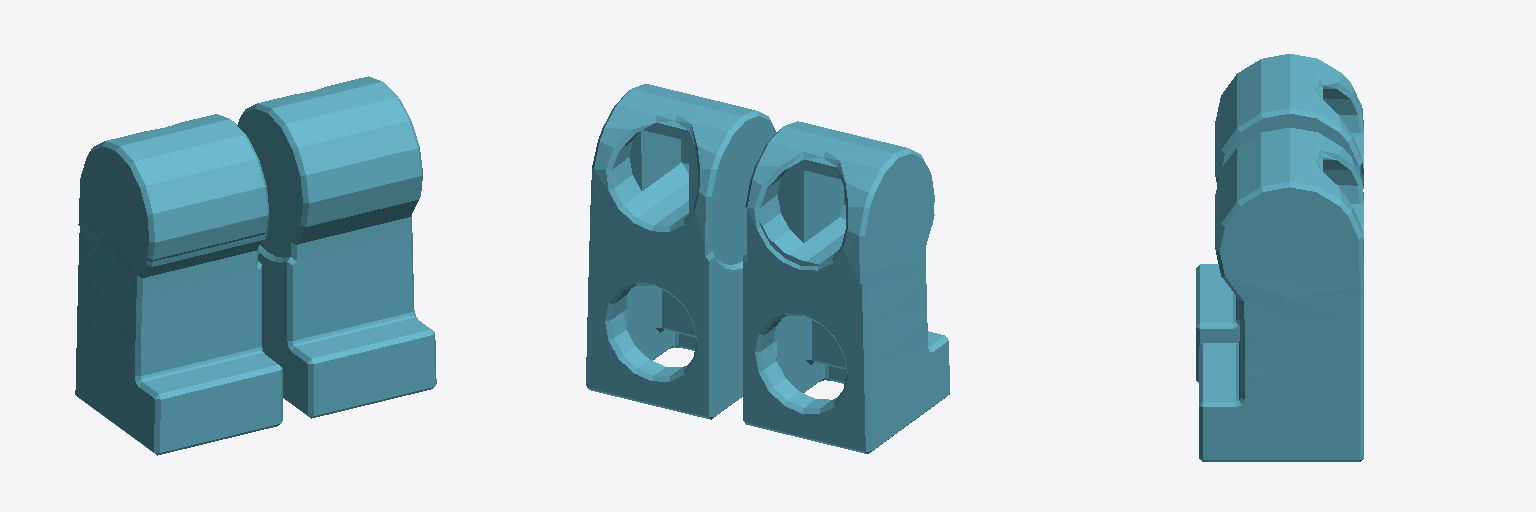
3 renders of one model, left to right at view 1: azimuth 30°, elevation 25°; view 2: azimuth 150°, elevation 25°; view 3: azimuth 270°, elevation 25°, orthographic.
Parts seen in each view (by area): view 1: Mesh_0142.015_Mesh_0142Mesh.001, Mesh_0142.014_Mesh_0142Mesh.001; view 2: Mesh_0142.015_Mesh_0142Mesh.001, Mesh_0142.014_Mesh_0142Mesh.001; view 3: Mesh_0142.014_Mesh_0142Mesh.001, Mesh_0142.015_Mesh_0142Mesh.001.
Part boxes in pixels (left/top/right/bottom): Mesh_0142.015_Mesh_0142Mesh.001: left=75, top=114, right=282, bottom=455; Mesh_0142.014_Mesh_0142Mesh.001: left=237, top=76, right=436, bottom=418; Mesh_0142.015_Mesh_0142Mesh.001: left=743, top=121, right=949, bottom=453; Mesh_0142.014_Mesh_0142Mesh.001: left=586, top=84, right=776, bottom=419; Mesh_0142.014_Mesh_0142Mesh.001: left=1199, top=127, right=1363, bottom=461; Mesh_0142.015_Mesh_0142Mesh.001: left=1196, top=54, right=1363, bottom=382.
Size of the model in its own units: 0.1513 by 0.141 by 0.0777.
1 materials, 1 textured.